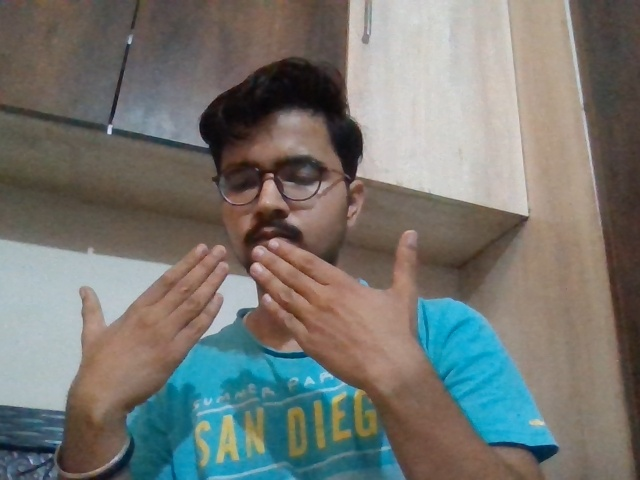thankyou: (76, 221, 448, 422)
